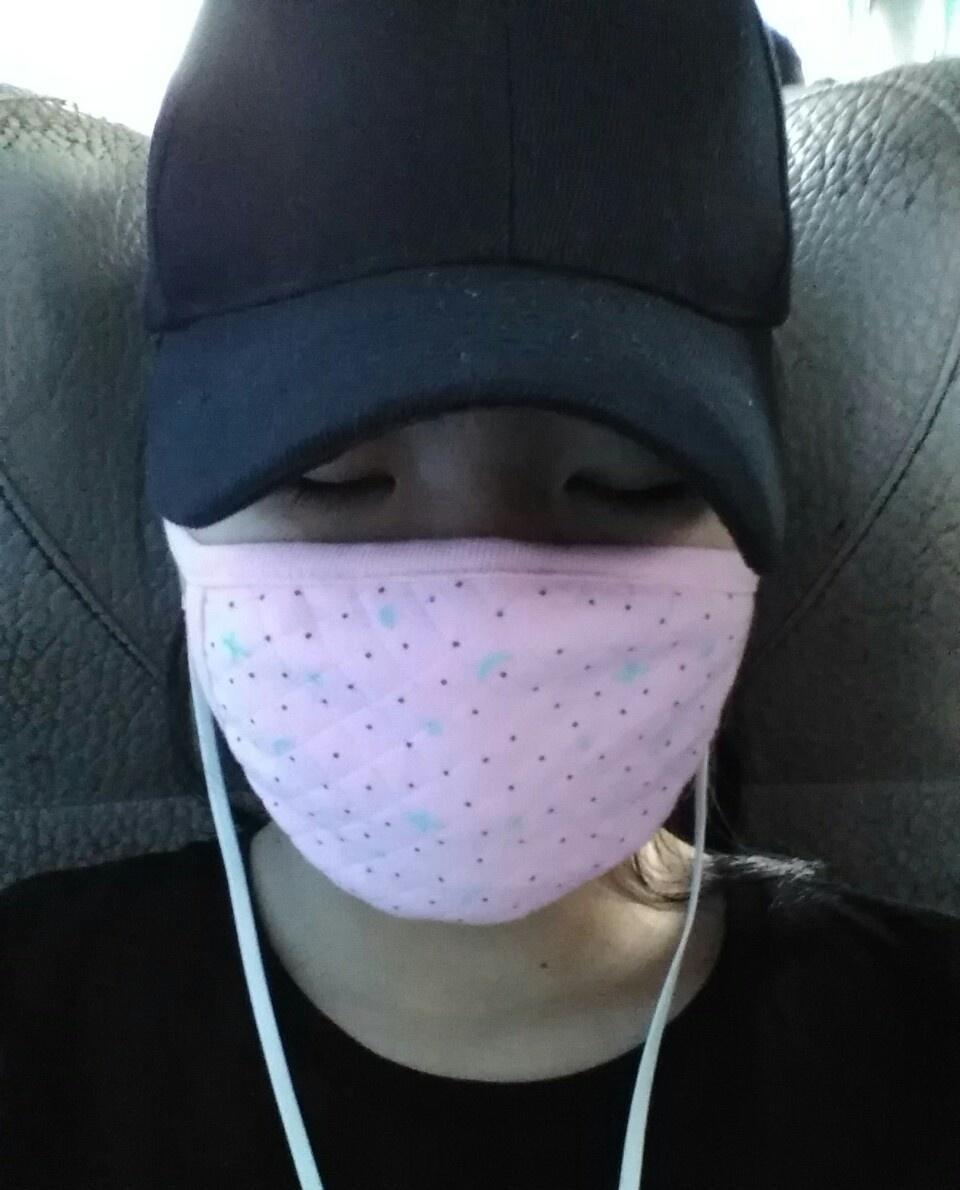OK: (178, 368, 738, 928)
